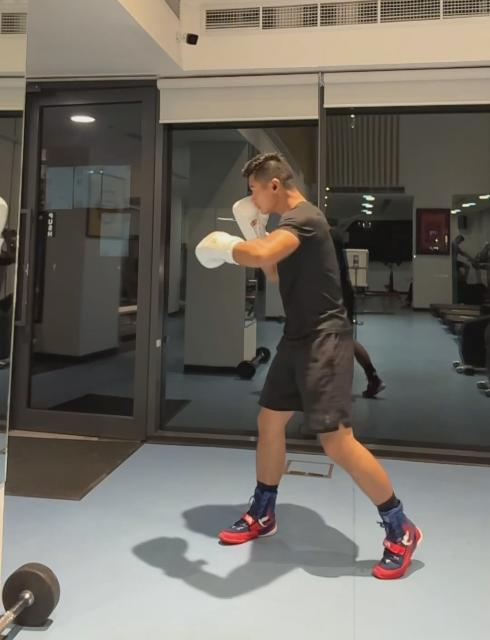punch: (194, 148, 424, 582)
